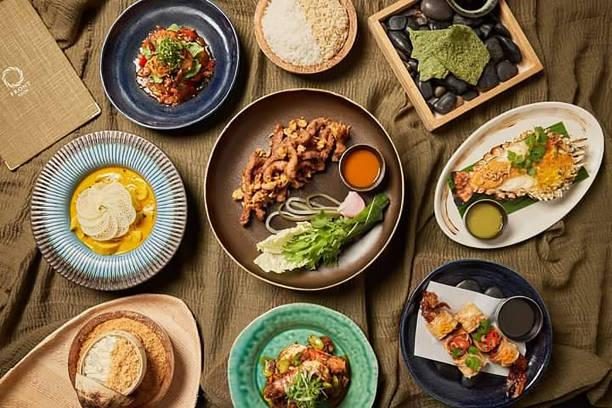Braised Crucian Carp: (202, 79, 405, 294), (425, 98, 604, 256), (32, 129, 187, 296), (0, 291, 200, 407), (398, 260, 554, 406), (366, 0, 539, 131), (95, 0, 244, 133), (220, 303, 387, 408)
